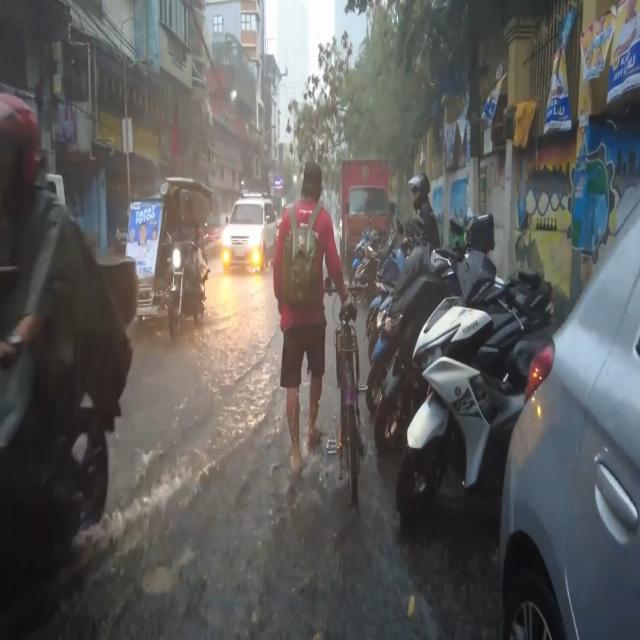full: (408, 173, 430, 212)
half: (0, 91, 41, 218)
